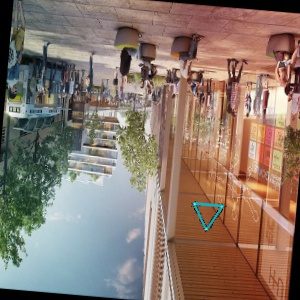triangle: (189, 198, 227, 235)
